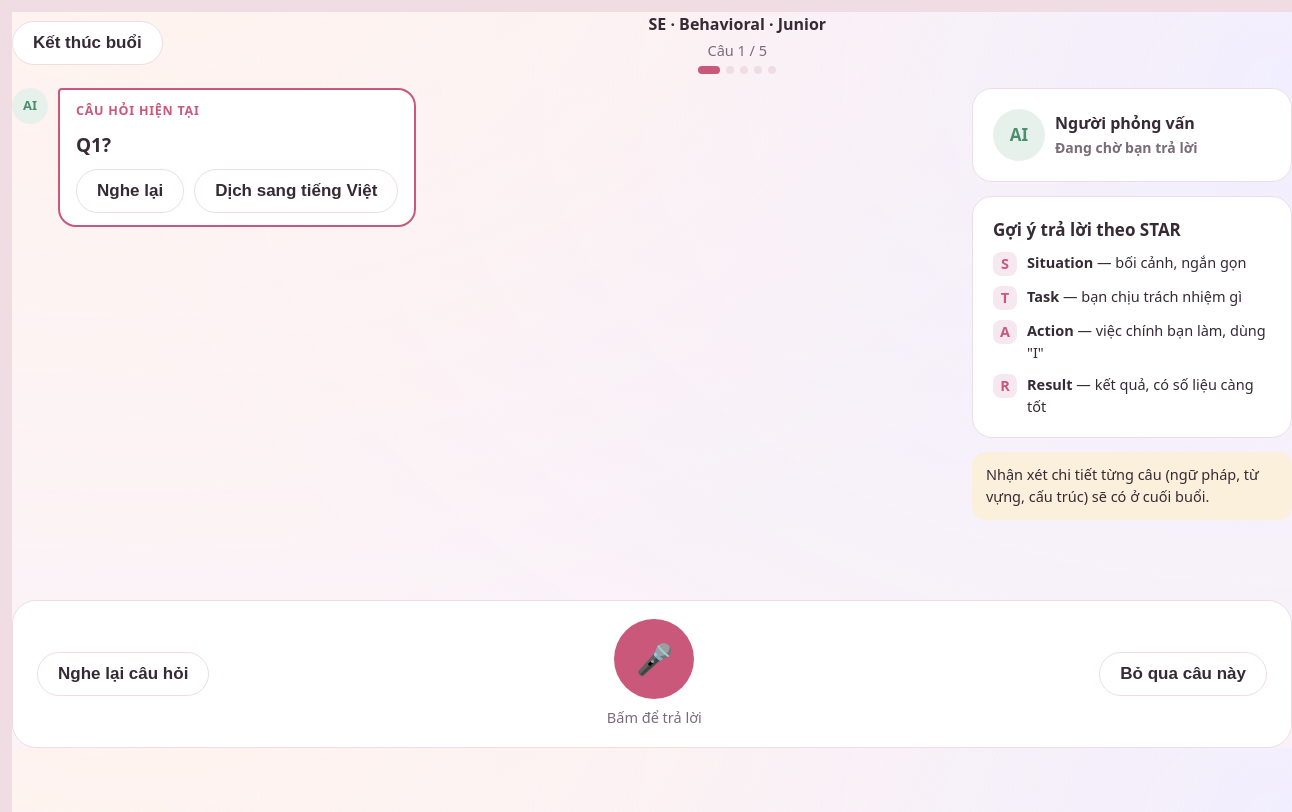
InterviewSessionPage › keeps the recording and offers retry when STT fails
Click the button named "Bắt đầu trả lời": (654,659) [614,619,694,699]
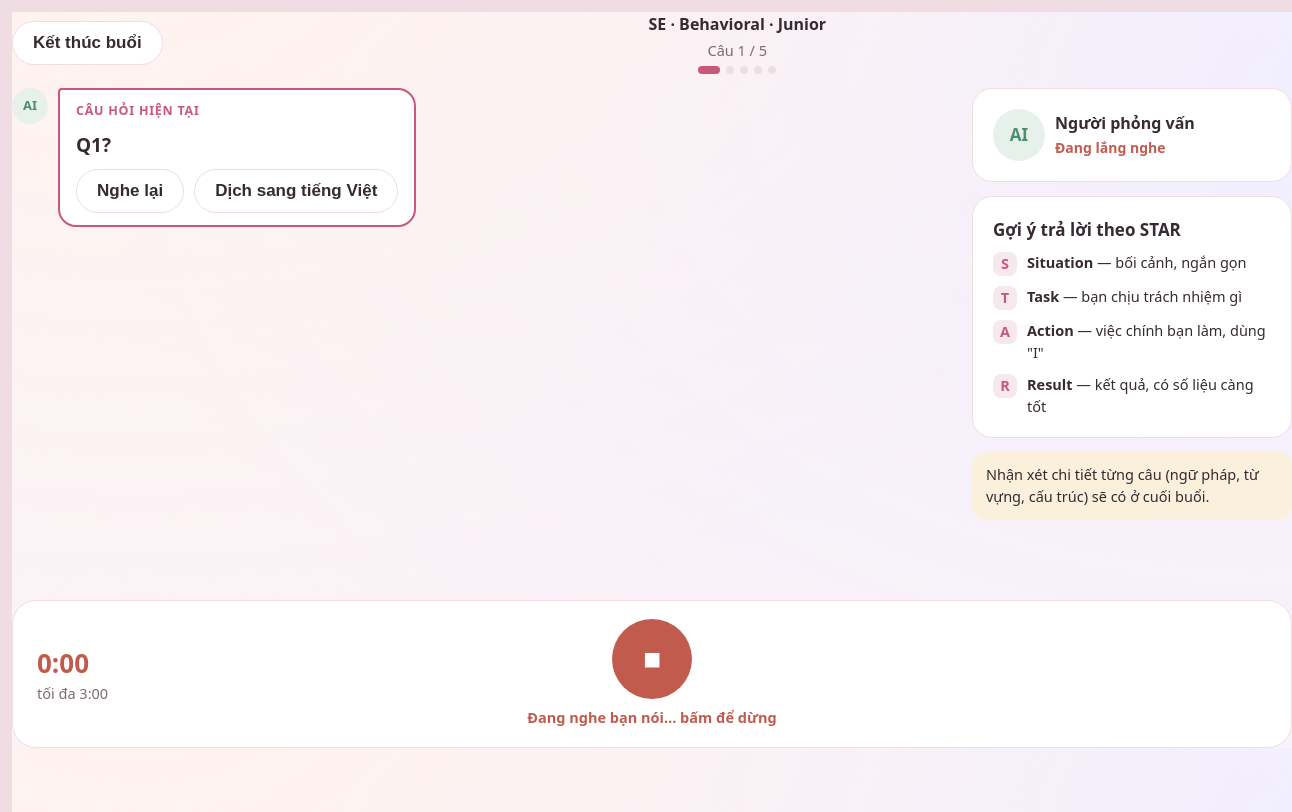
Click the button named "Dừng ghi âm": (652,659) [612,619,692,699]
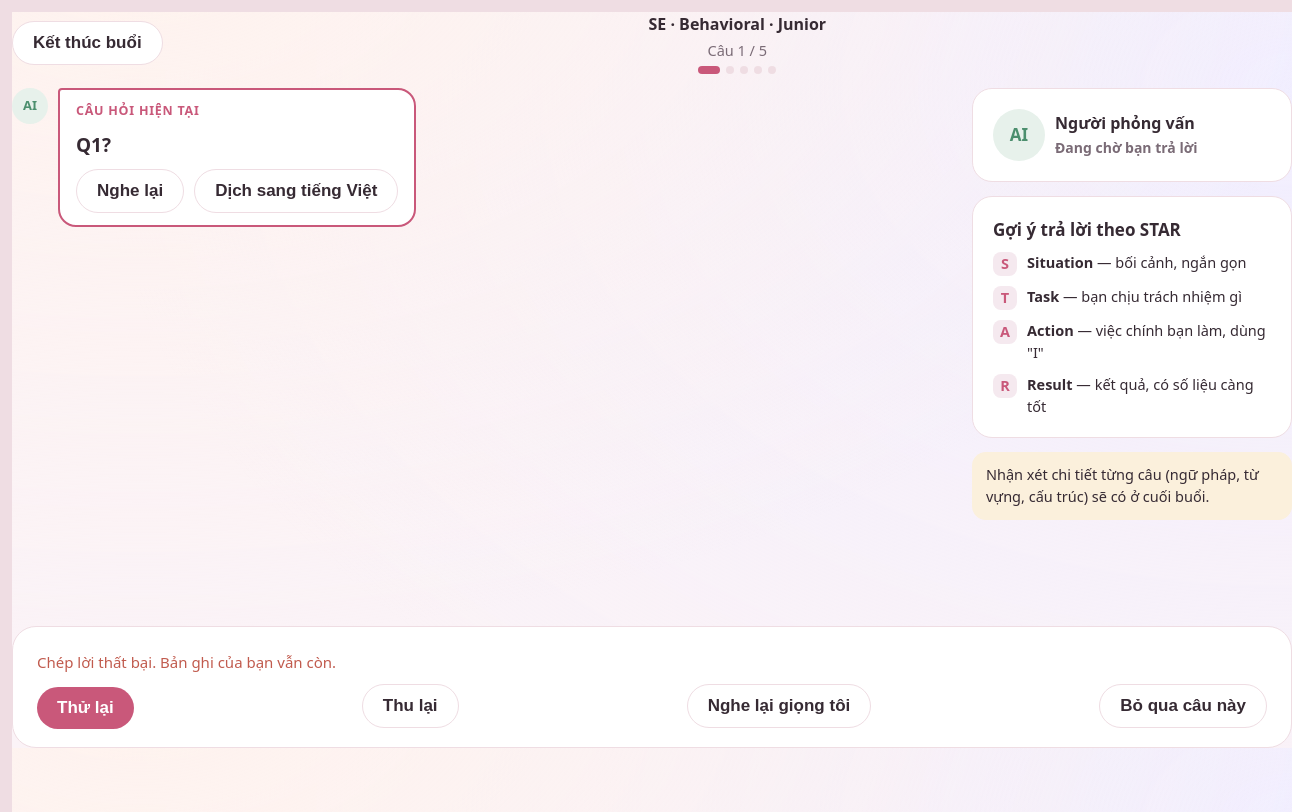
Click the button "Thử lại": (85,708) [37,687,134,729]
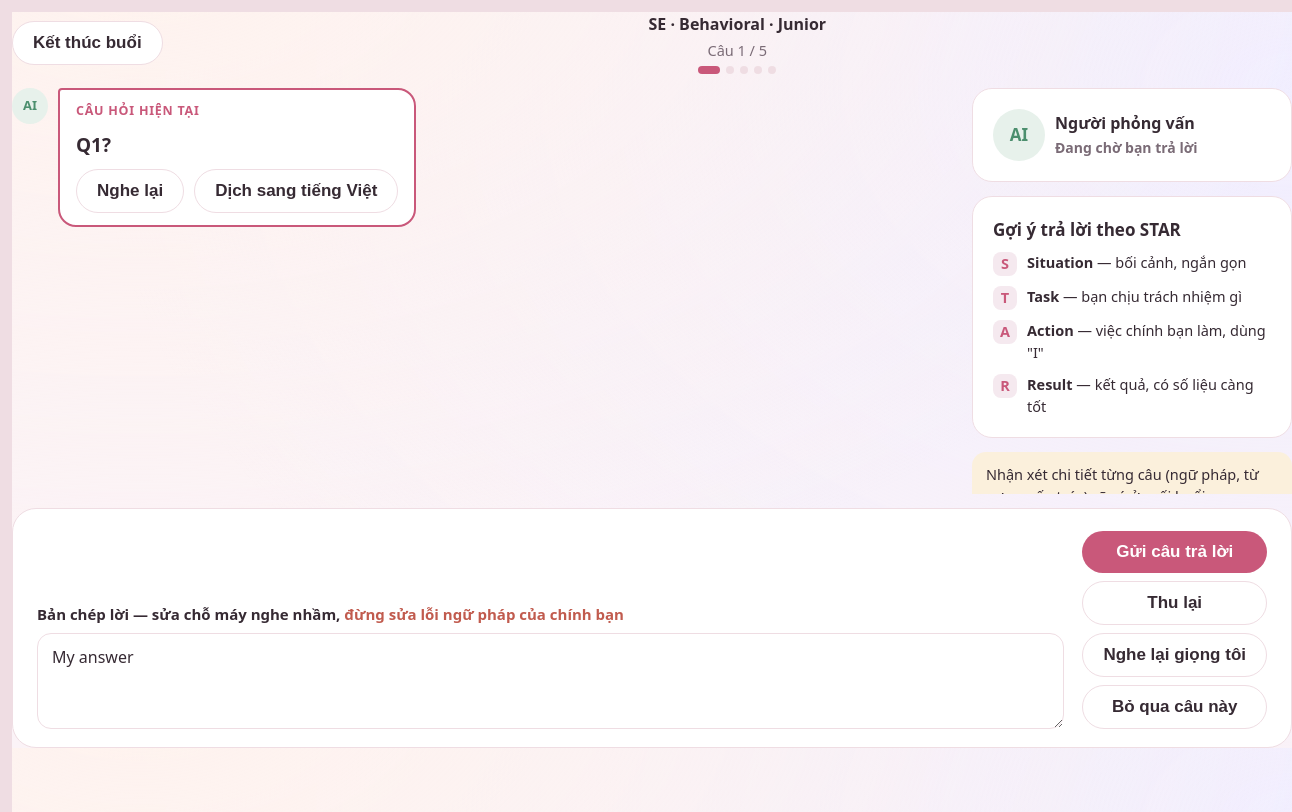
Check: the text box labelled "Bản chép lời" holds "My answer", box [37,633,1064,729]
